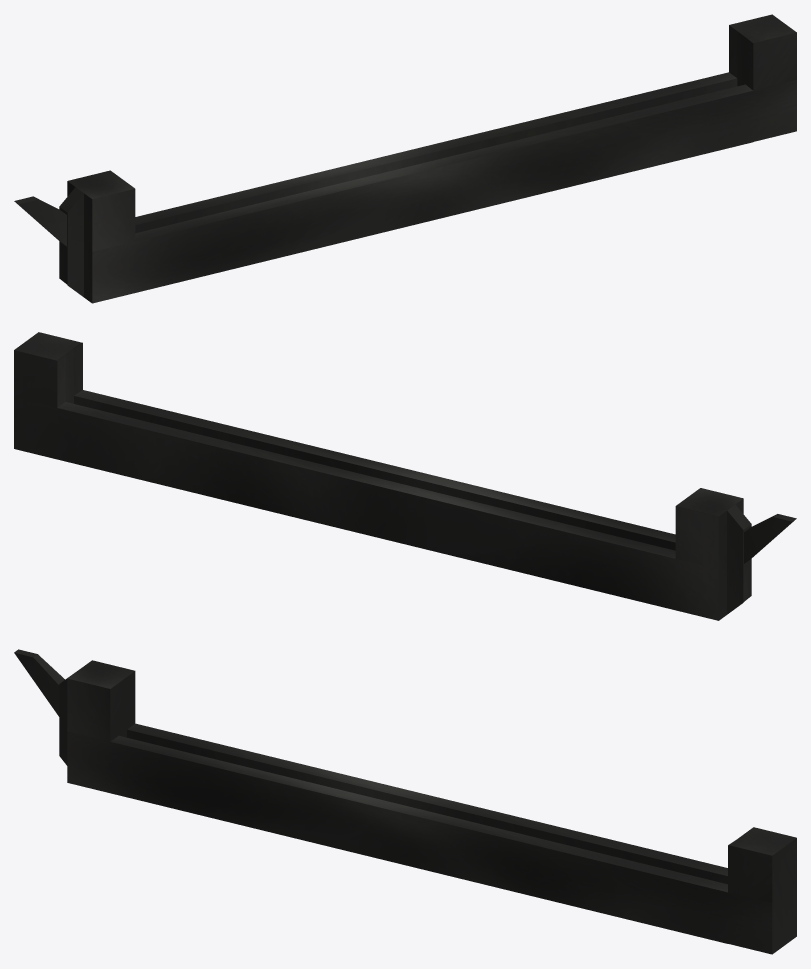
File: Motherboard component15.fbx
The picture shows the model from 3 angles, top to bottom: view 1: azimuth 30°, elevation 25°; view 2: azimuth 150°, elevation 25°; view 3: azimuth 330°, elevation 25°; orthographic projection.
Parts seen in each view (by area): view 1: Motherboard component 5; view 2: Motherboard component 5; view 3: Motherboard component 5.
Boxes of the visible parts, bbox=[...] form: Motherboard component 5: bbox=[14, 14, 796, 303]; Motherboard component 5: bbox=[14, 332, 796, 620]; Motherboard component 5: bbox=[14, 649, 796, 954].
Size of the model in its own units: 13.19 by 1.76 by 0.7411.
